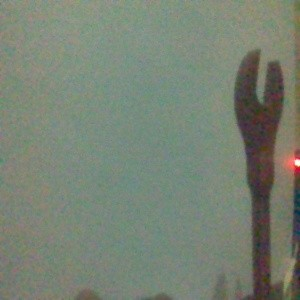spanner: (232, 47, 285, 300)
